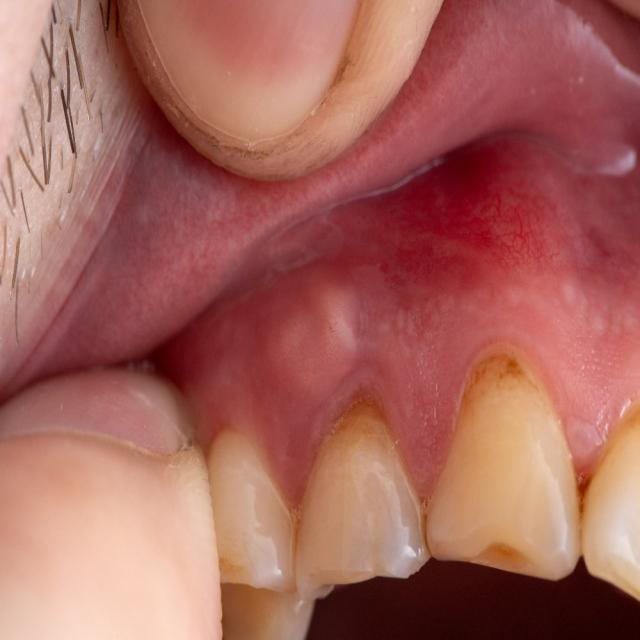abscess: (240, 278, 389, 430)
